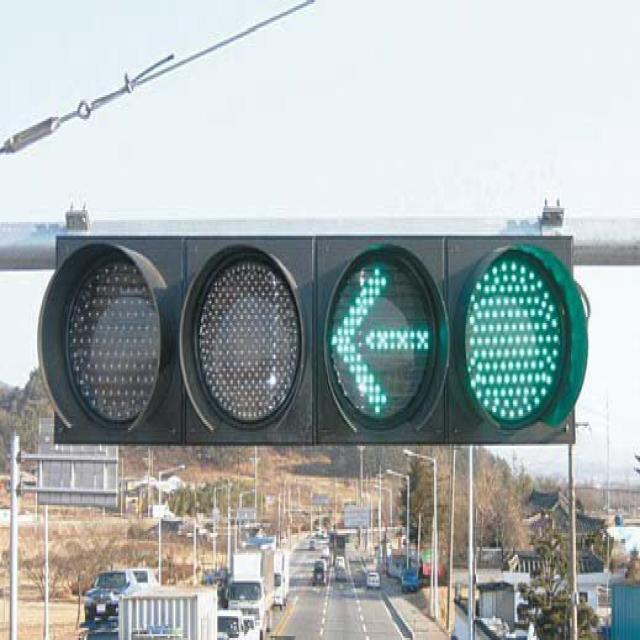Green Light: (456, 241, 584, 443)
